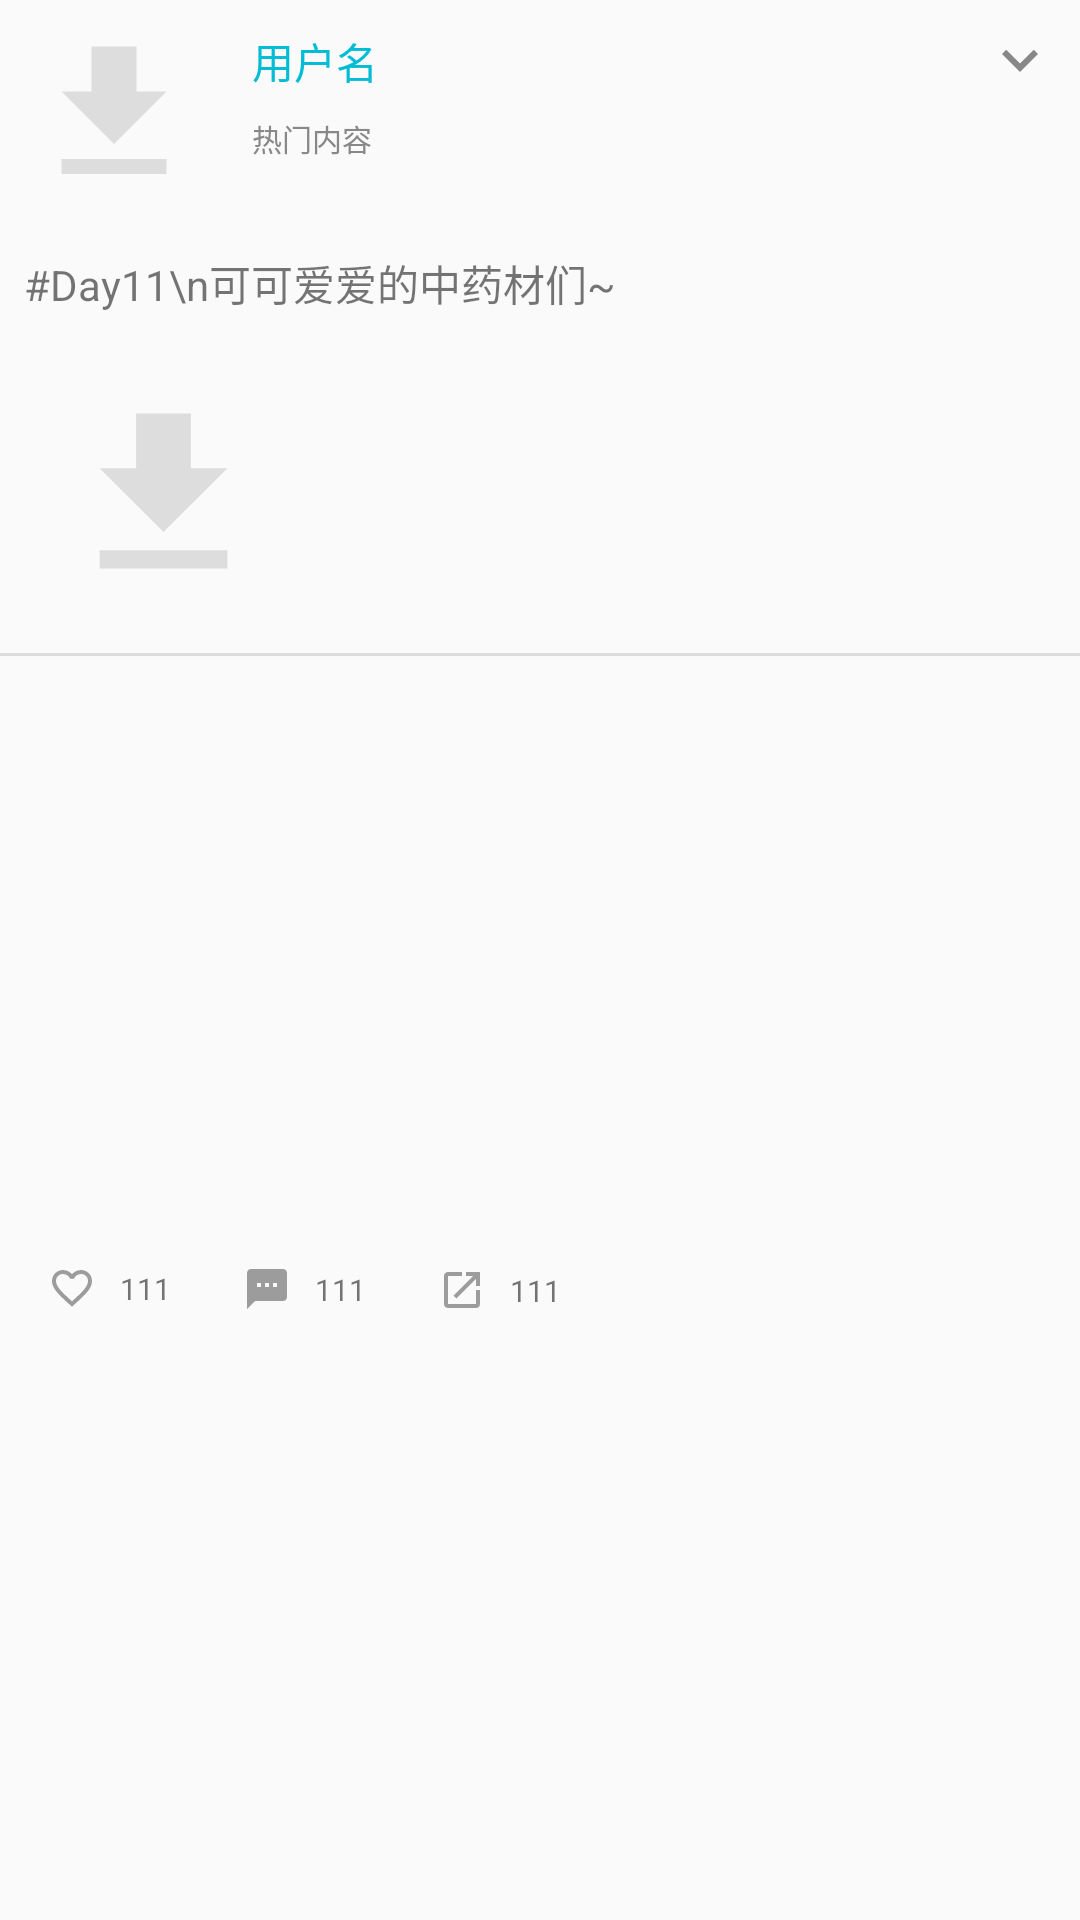

Icons on this 1080 × 1920 Android screen, each with the point to tap as point (x, y):
expand more: point (1020, 61)
favorite border: point (72, 1288)
file download: point (114, 110), point (163, 491)
launch: point (462, 1290)
